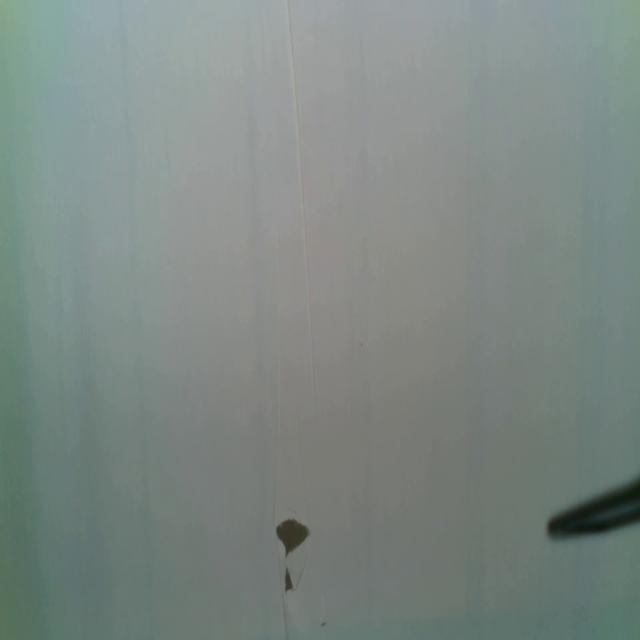crease: (285, 0, 318, 389), (271, 231, 282, 516)
hole: (275, 515, 312, 558), (283, 564, 294, 595), (319, 617, 327, 631)
